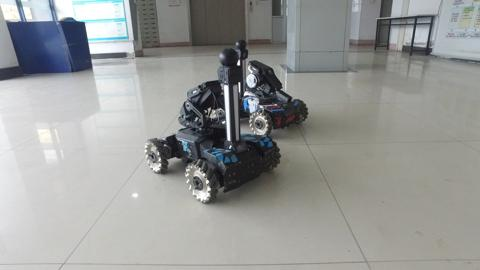chariot: (142, 47, 284, 206), (221, 41, 310, 141)
